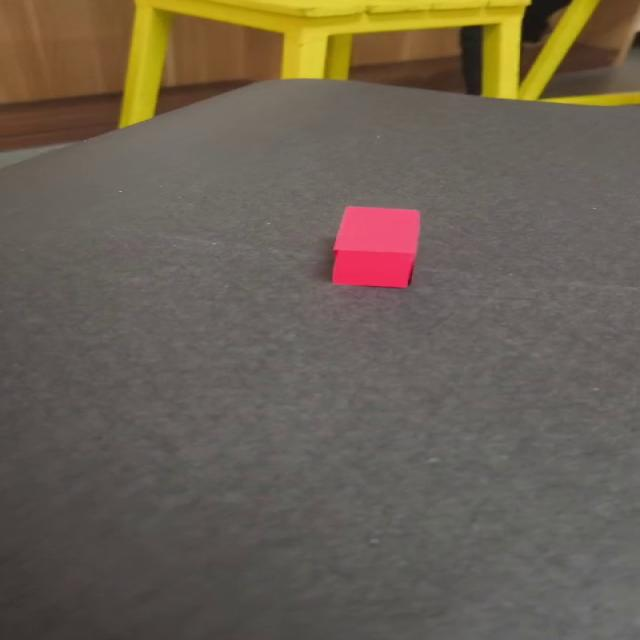red block: (329, 205, 422, 288)
